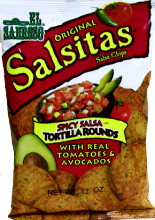grozi_20: (0, 0, 154, 219)
